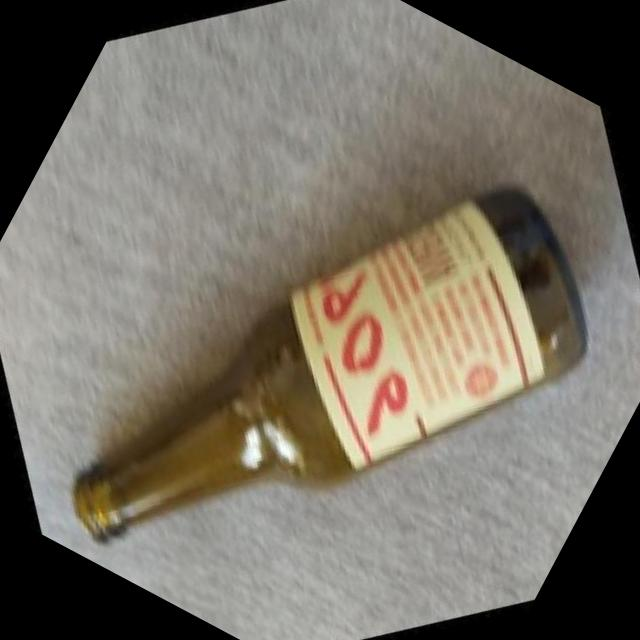BotolKaca: (49, 69, 638, 640)
